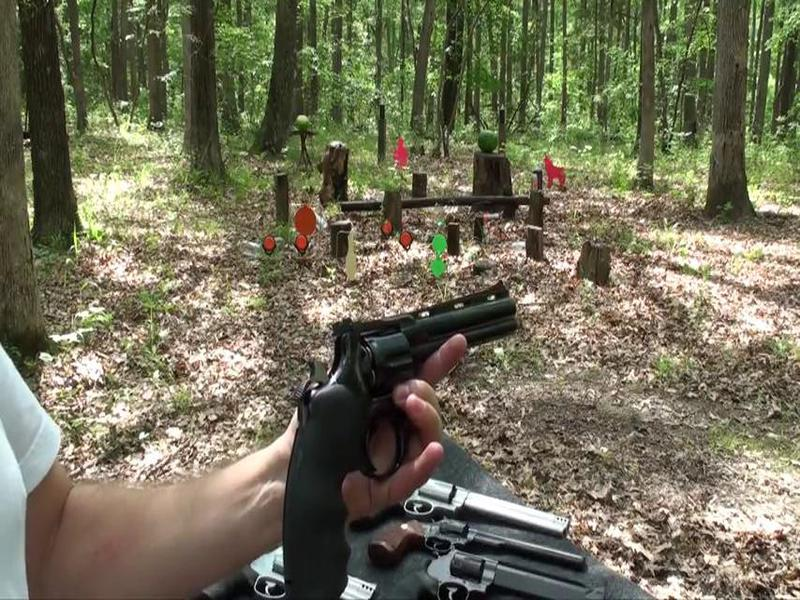Revolver: (271, 269, 530, 600)
